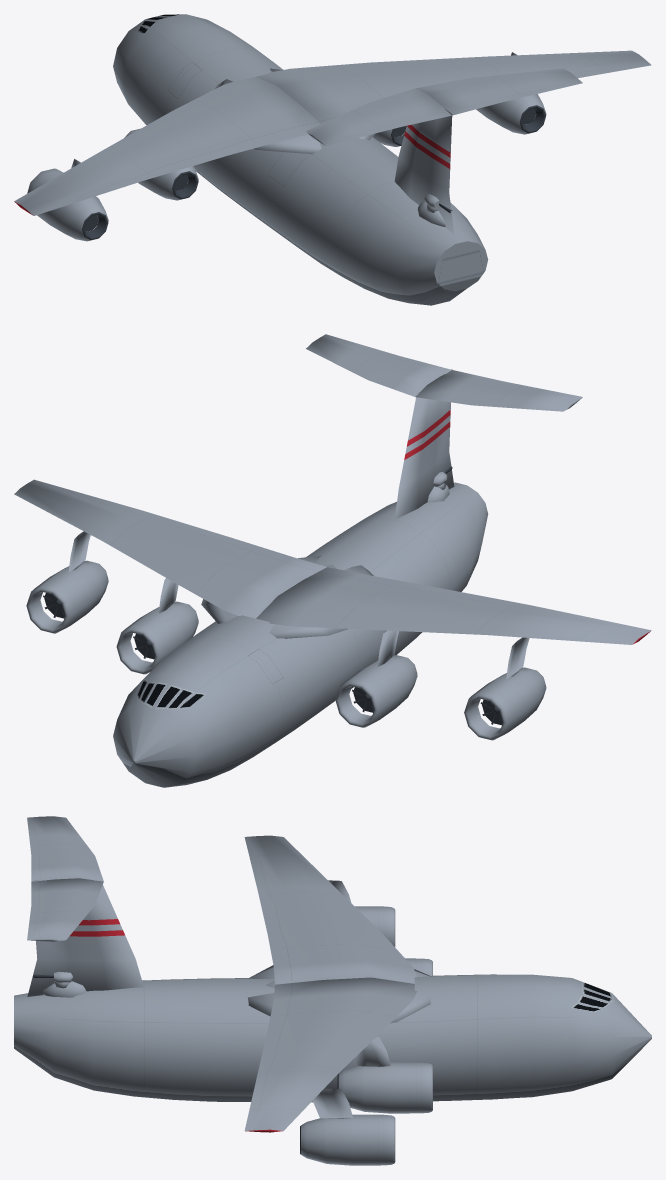
The model's file is giant-transport-far.glb.
The picture shows the model from 3 angles, top to bottom: view 1: azimuth 30°, elevation 25°; view 2: azimuth 150°, elevation 25°; view 3: azimuth 270°, elevation 25°; orthographic projection. The views are drawn at different scales.
Visible parts, largest first — view 1: TransportHull; view 2: TransportHull; view 3: TransportHull.
Boxes of the visible parts, x1=… form: TransportHull: x1=14, y1=14, x2=651, y2=305; TransportHull: x1=14, y1=334, x2=651, y2=787; TransportHull: x1=14, y1=816, x2=651, y2=1165.
Bounding box in the file's own units: 48 × 16.51 × 44.
4 materials, 2 textured.
